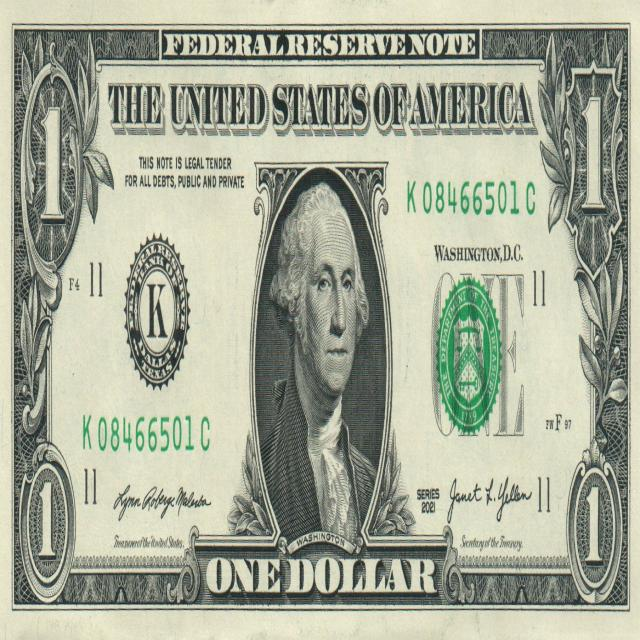SerialNumber: (83, 415, 210, 451), (407, 181, 535, 215)
